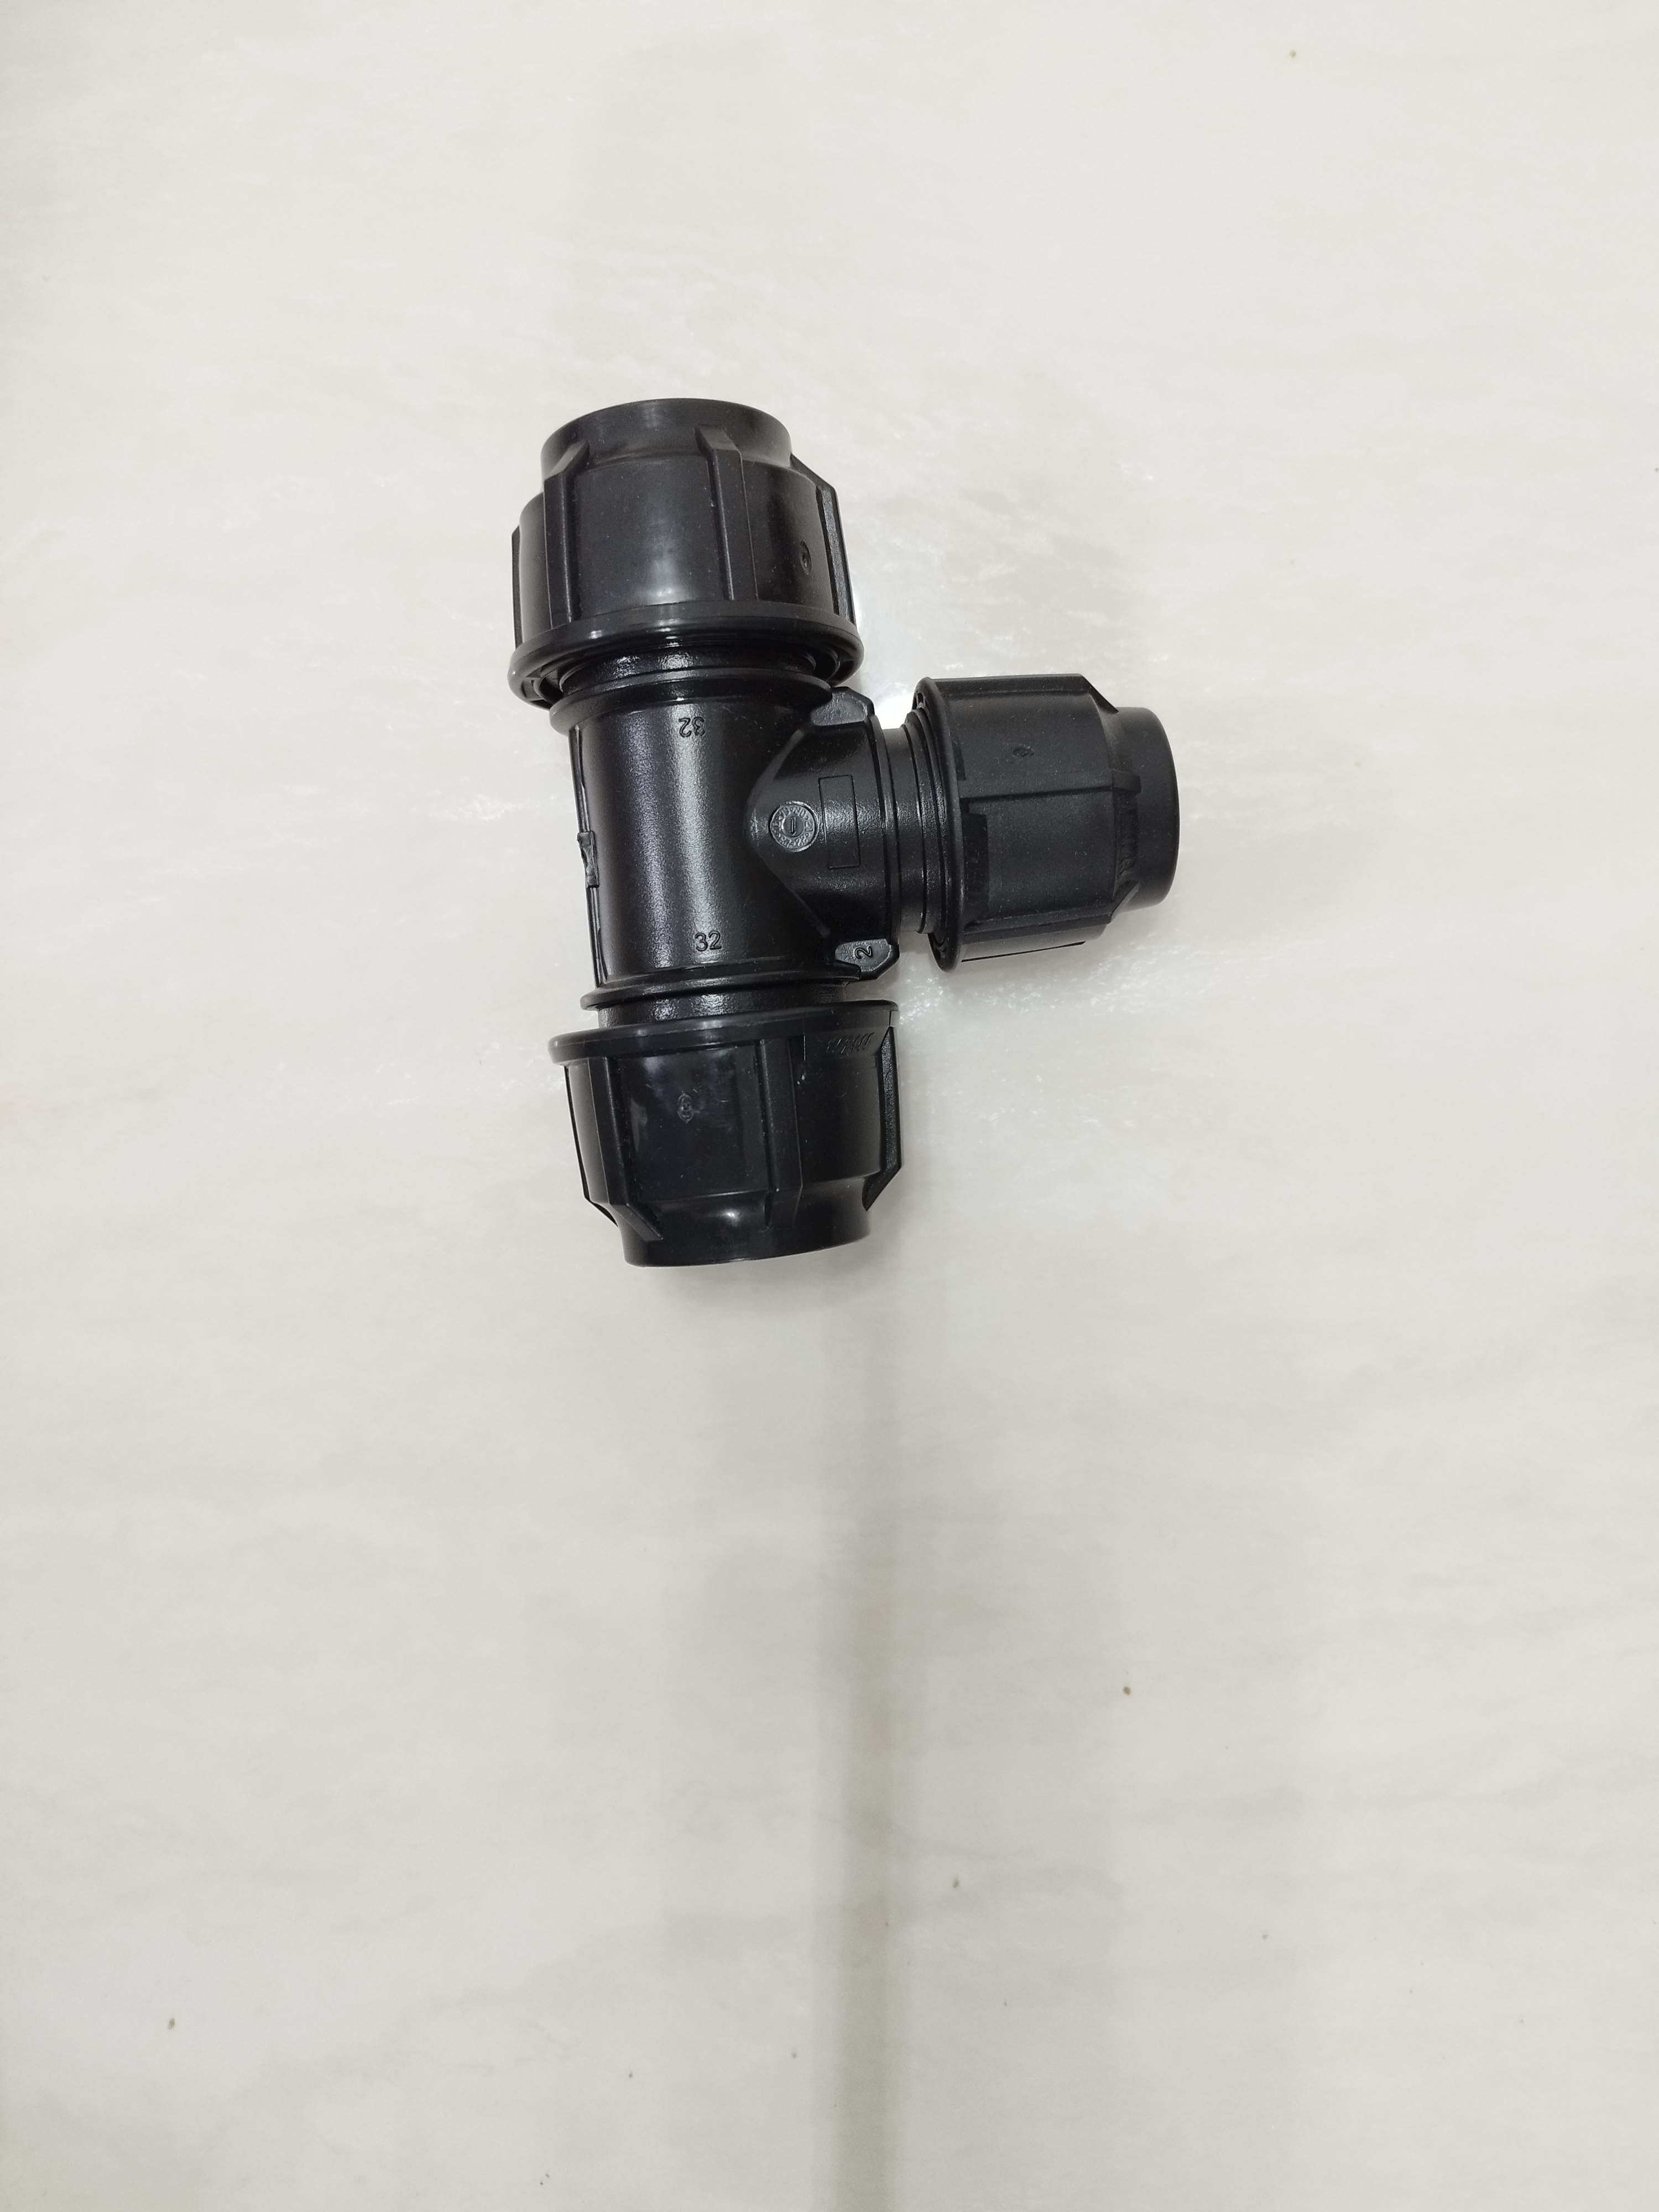plastic_tee_connector: (411, 388, 1215, 1318)
